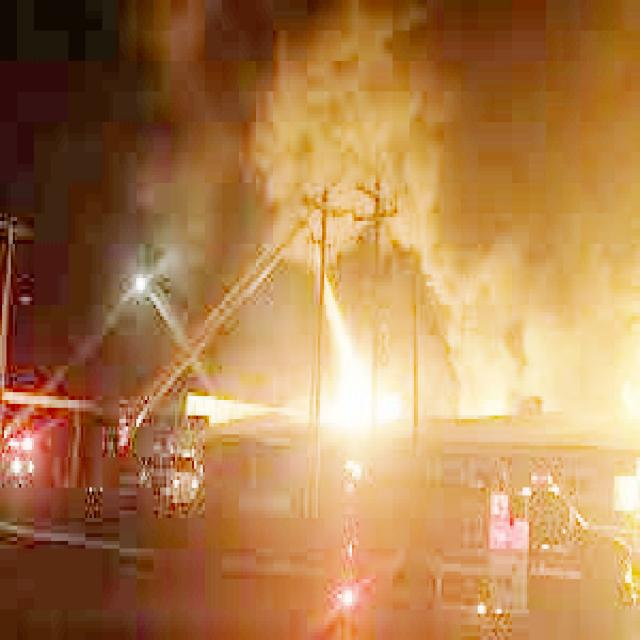api: (304, 218, 415, 443)
